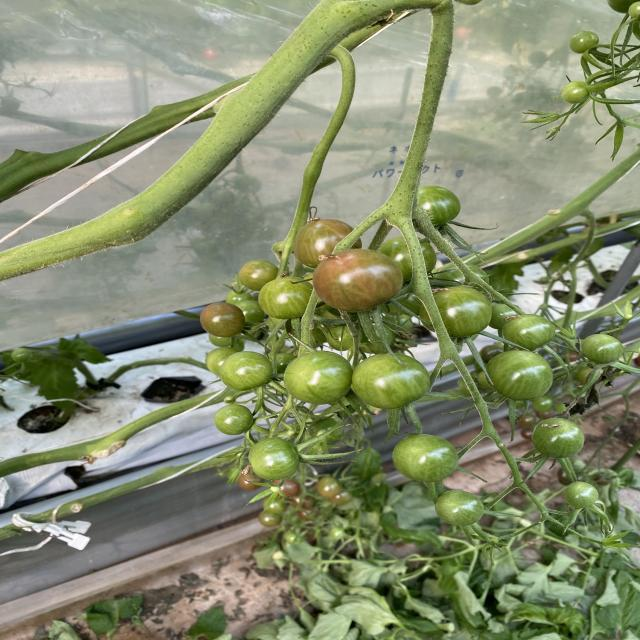c-half-riped: (312, 249, 402, 311), (293, 218, 362, 268), (200, 303, 245, 337)
c-unriped: (353, 352, 431, 410), (419, 285, 491, 338), (284, 351, 353, 404), (486, 350, 552, 400), (392, 434, 457, 482), (380, 236, 437, 284), (258, 276, 314, 320), (219, 351, 272, 391), (248, 438, 298, 480), (533, 418, 584, 457), (503, 314, 555, 352), (419, 186, 461, 227), (435, 490, 483, 525), (581, 334, 622, 363), (239, 261, 277, 291), (215, 405, 252, 435), (563, 482, 599, 508)
